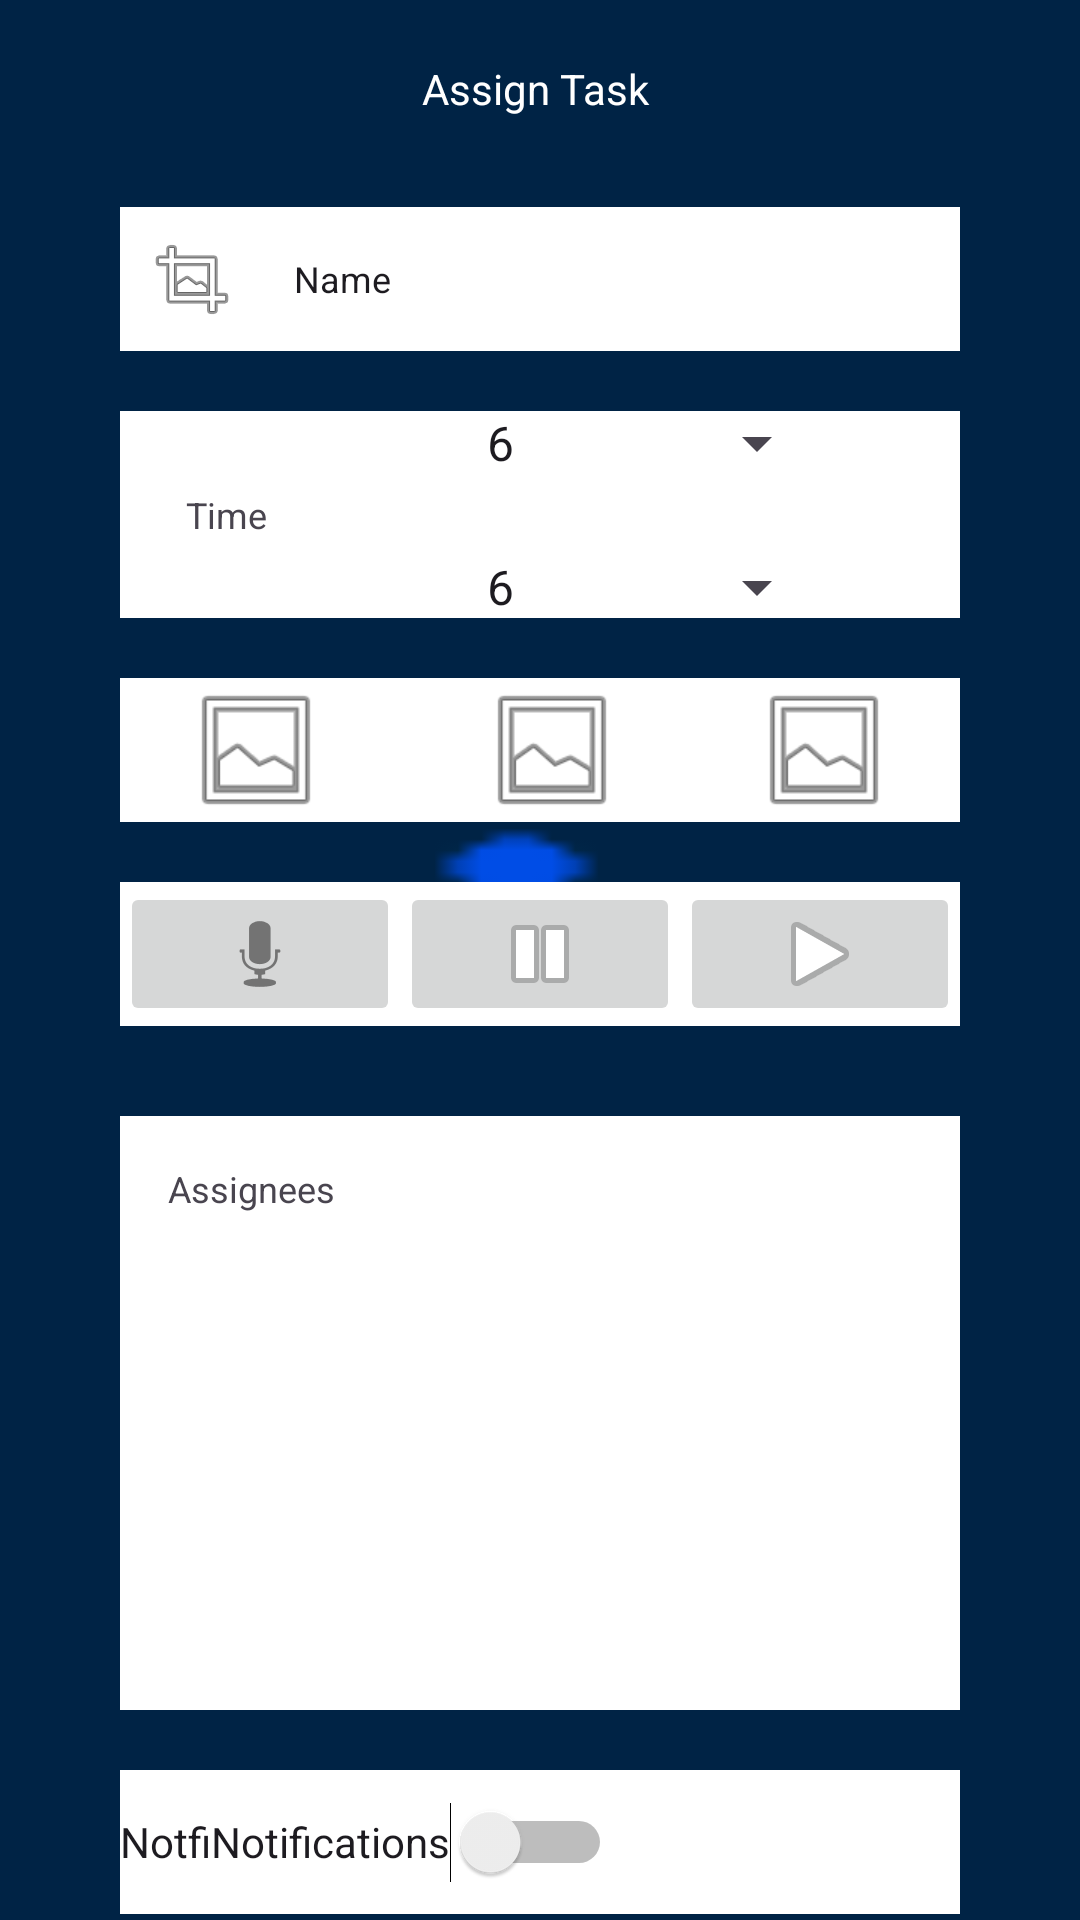

Where icons sit on this 1080×1920 app screen, as (left=x1, top=y1, right=x2, bottom=y2):
Play: (left=680, top=882, right=960, bottom=1026)
Record: (left=120, top=882, right=400, bottom=1026)
